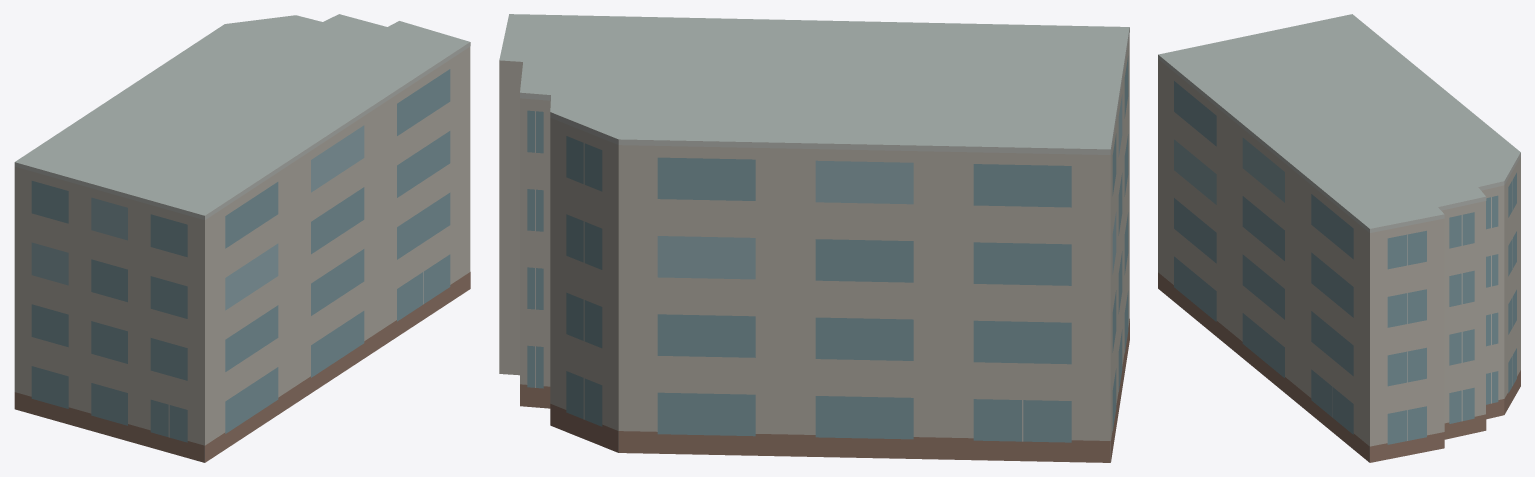
Rendered from survey-upis-32599908.glb.
The picture shows the model from 3 angles, left to right: view 1: azimuth 30°, elevation 25°; view 2: azimuth 150°, elevation 25°; view 3: azimuth 270°, elevation 25°; orthographic projection. The views are drawn at different scales.
Visible parts, largest first — view 1: survey-upis-32599908.tmp; view 2: survey-upis-32599908.tmp; view 3: survey-upis-32599908.tmp.
Boxes of the visible parts, box(x1,y1,x2,y2) form: survey-upis-32599908.tmp: box(14, 14, 470, 462); survey-upis-32599908.tmp: box(499, 14, 1129, 462); survey-upis-32599908.tmp: box(1158, 14, 1520, 462).
Bounding box in the file's own units: 26.6 × 13.5 × 18.98.
